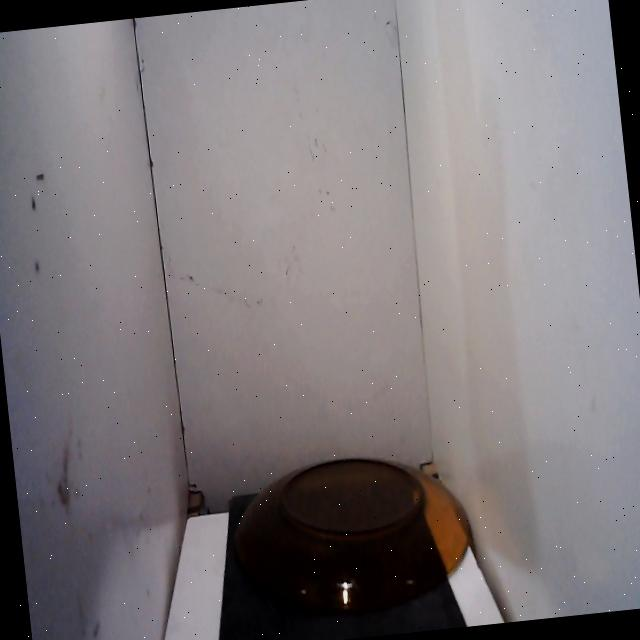vidro: (217, 430, 483, 634)
